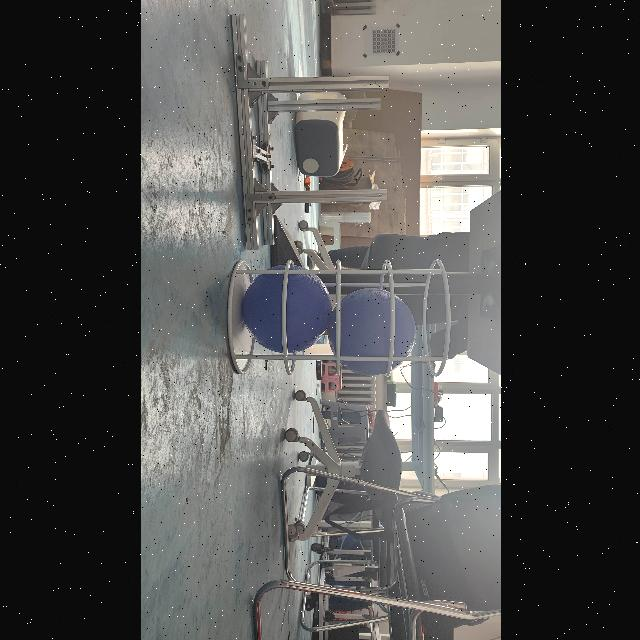B: (241, 262, 333, 354), (328, 288, 416, 374)
S: (221, 250, 453, 382)
